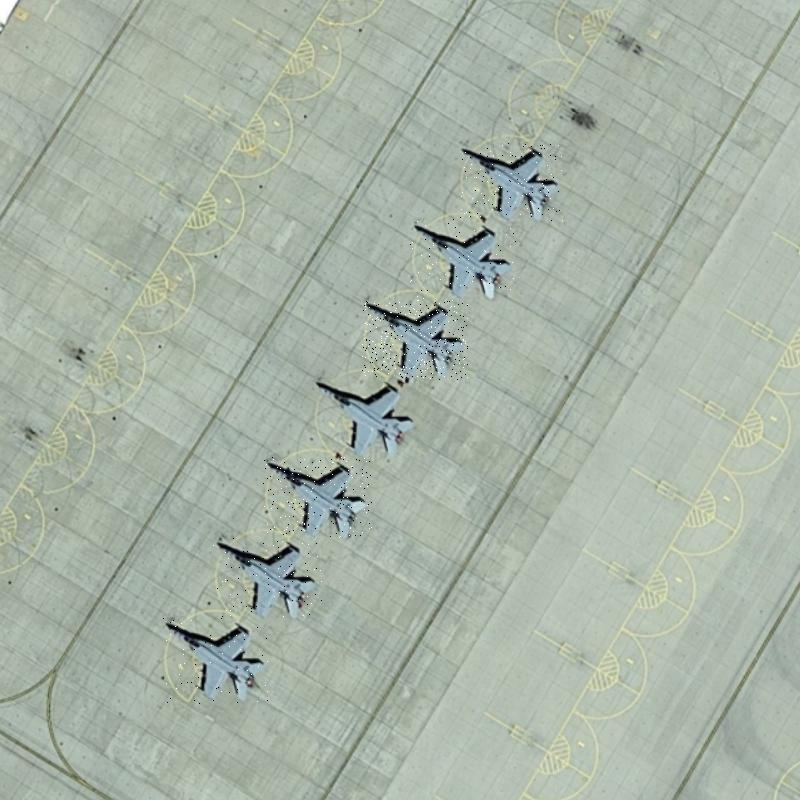A16: (213, 534, 322, 621), (163, 618, 269, 704), (409, 218, 517, 301), (263, 457, 372, 539), (310, 378, 418, 457), (362, 300, 468, 380), (460, 143, 563, 222)
